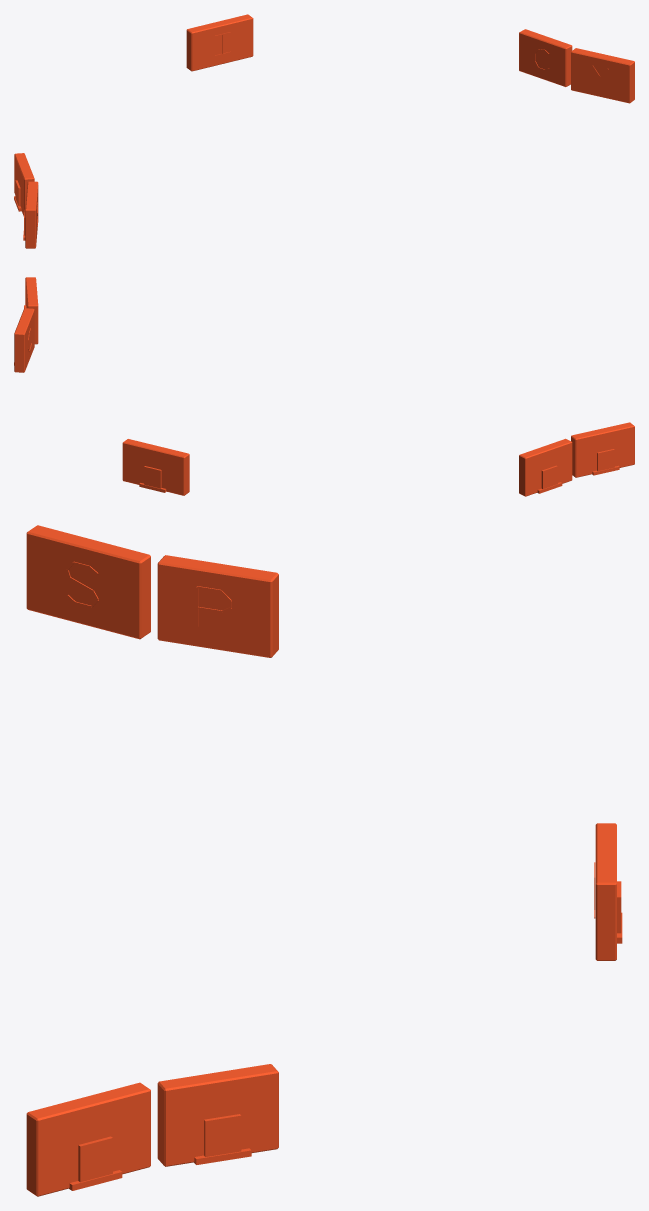
The model's file is Rodent_Targets.glb.
3 views of the same model, one above another, from view 1: azimuth 30°, elevation 25°; view 2: azimuth 150°, elevation 25°; view 3: azimuth 270°, elevation 25° (orthographic). The views are drawn at different scales.
Parts seen in each view (by area): view 1: Standup3, Standup5, Standup4, Standup1, Standup2; view 2: Standup3, Standup1, Standup2, Standup4, Standup5; view 3: Standup5, Standup1, Standup4, Standup2, Standup3.
Part boxes in pixels (x1,y1,x2,y2): Standup3: (186, 14, 253, 71); Standup5: (571, 48, 634, 103); Standup4: (519, 29, 572, 86); Standup1: (23, 181, 38, 248); Standup2: (14, 153, 34, 216); Standup3: (122, 439, 189, 495); Standup1: (571, 422, 634, 477); Standup2: (519, 438, 572, 496); Standup4: (14, 308, 34, 372); Standup5: (24, 277, 38, 344); Standup5: (26, 1082, 150, 1196); Standup1: (26, 525, 150, 639); Standup4: (157, 1064, 278, 1166); Standup2: (157, 555, 278, 657); Standup3: (594, 823, 622, 960).
Bounding box in the file's own units: 0.5482 × 0.0336 × 0.2322.
